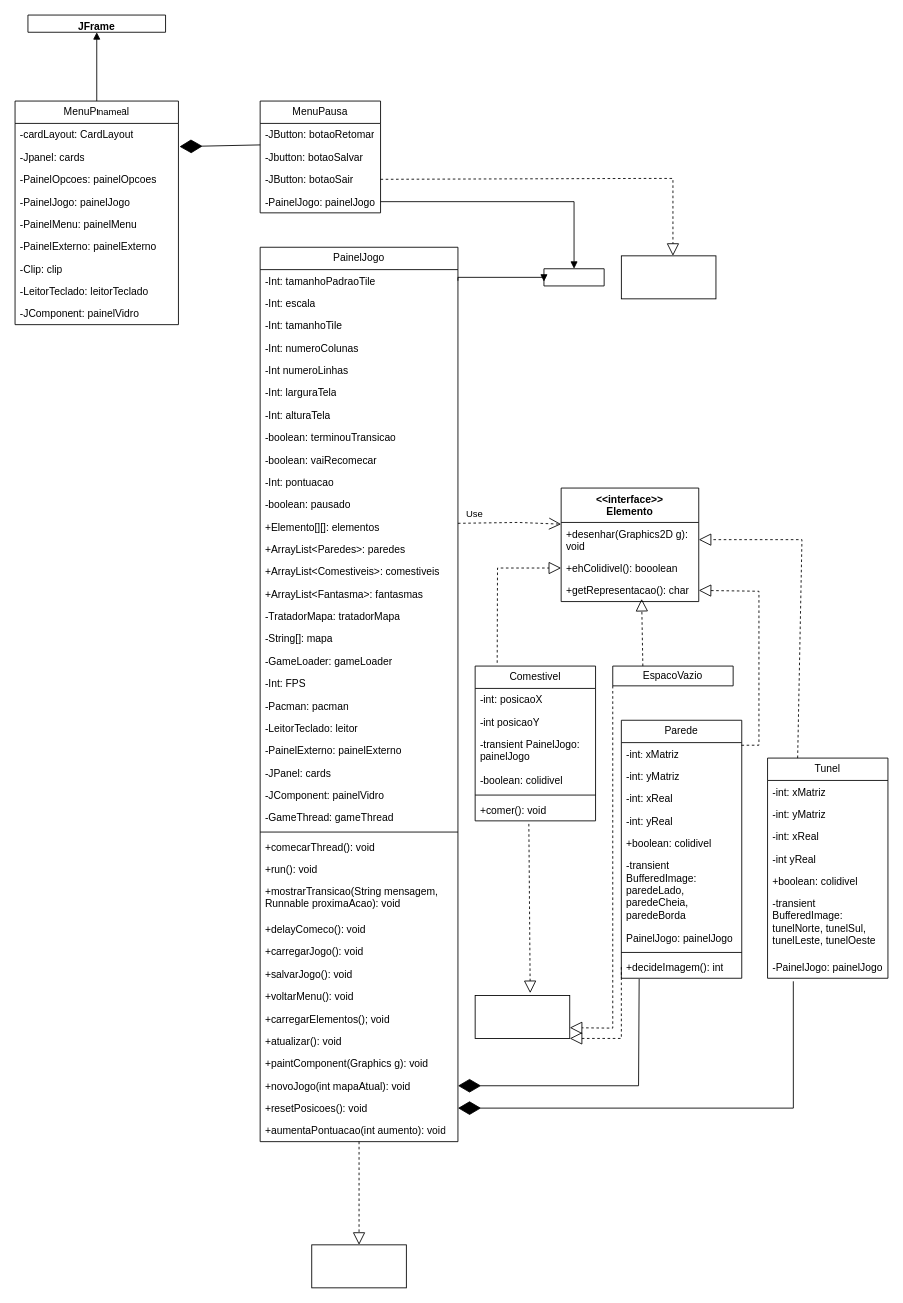
The diagram is 903 pixels wide and 1303 high, and some of its shapes have lost their labels. The shapes that lost their labels are listed below. From the top down, each one's centre as x and y in pixels, then its label:
the point at 573,277: JPanel
the point at 668,277: «interface» ActionListener
the point at 522,1016: «interface» Serializable
the point at 358,1266: «interface» Runnable
